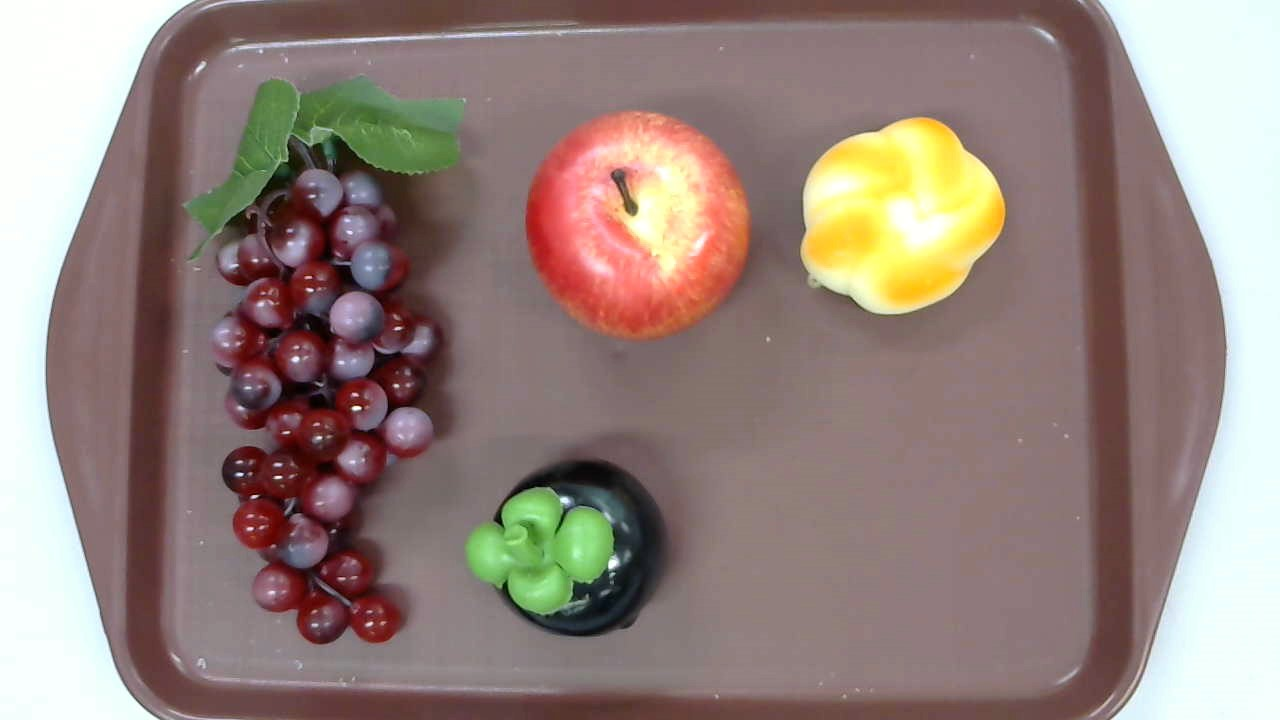grape: (179, 73, 465, 648)
mangosteen: (465, 458, 666, 637)
red apple: (525, 110, 751, 340)
twist bread: (800, 117, 1005, 316)
